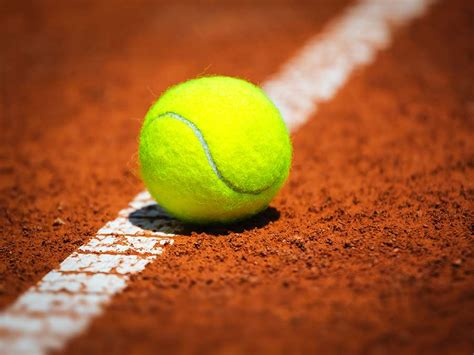tennis_ball: (138, 75, 292, 223)
